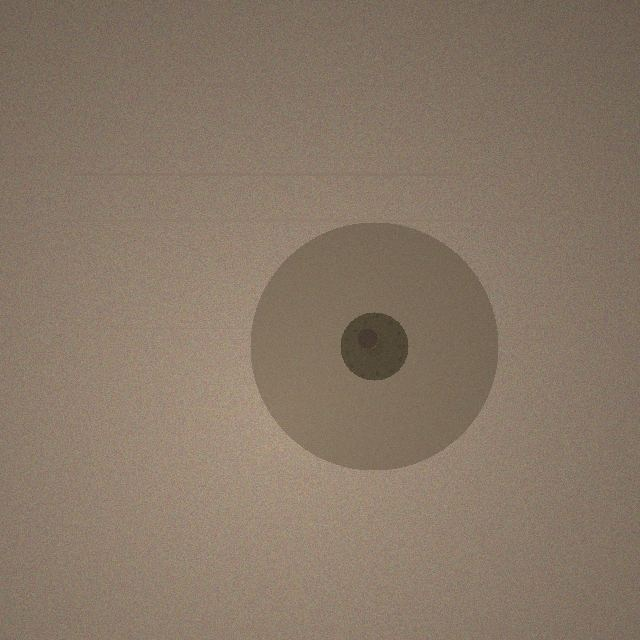cold_weld: (250, 222, 498, 470)
